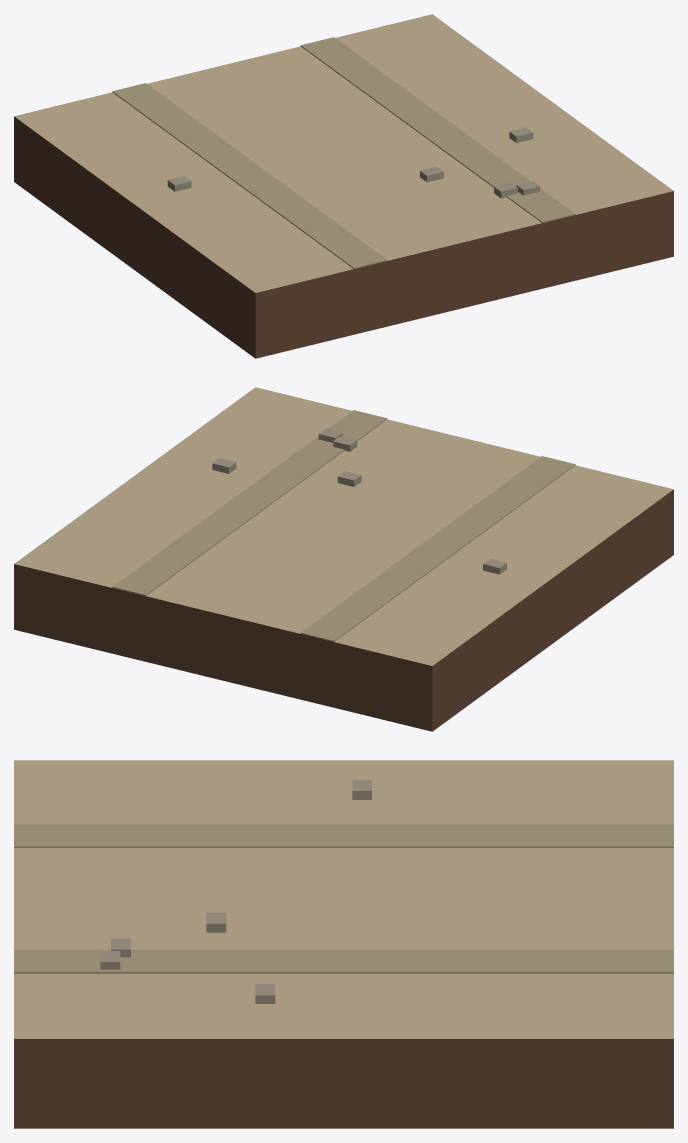
The model's file is t_path.glb.
The picture shows the model from 3 angles, top to bottom: view 1: azimuth 30°, elevation 25°; view 2: azimuth 150°, elevation 25°; view 3: azimuth 270°, elevation 25°; orthographic projection. The views are drawn at different scales.
Parts seen in each view (by area): view 1: t_path; view 2: t_path; view 3: t_path.
Boxes of the visible parts, x1,y1,x2,y2 form: t_path: (14, 14, 673, 358); t_path: (14, 387, 673, 731); t_path: (14, 760, 673, 1128).
Size of the model in its own units: 2 by 0.33 by 2.
